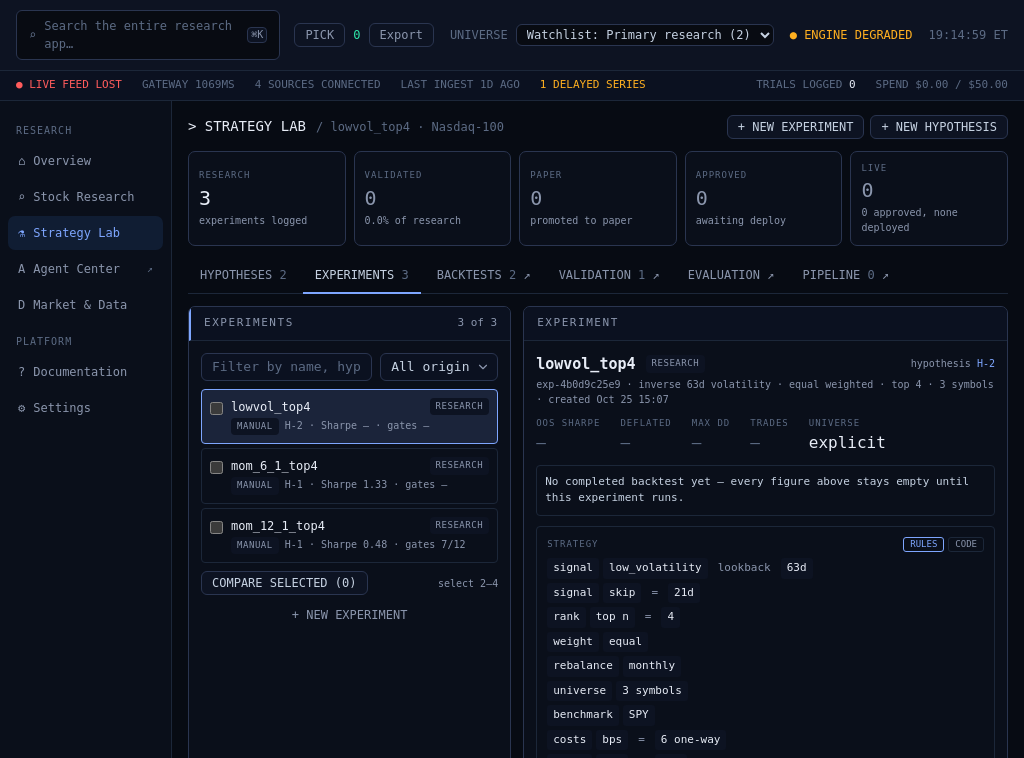
Test: experiments › filters by text and origin, and says when nothing matches
The image size is (1024, 758).
Type "mom_" into the field named "Filter experiments" at (287, 366), box [201,352,372,380]
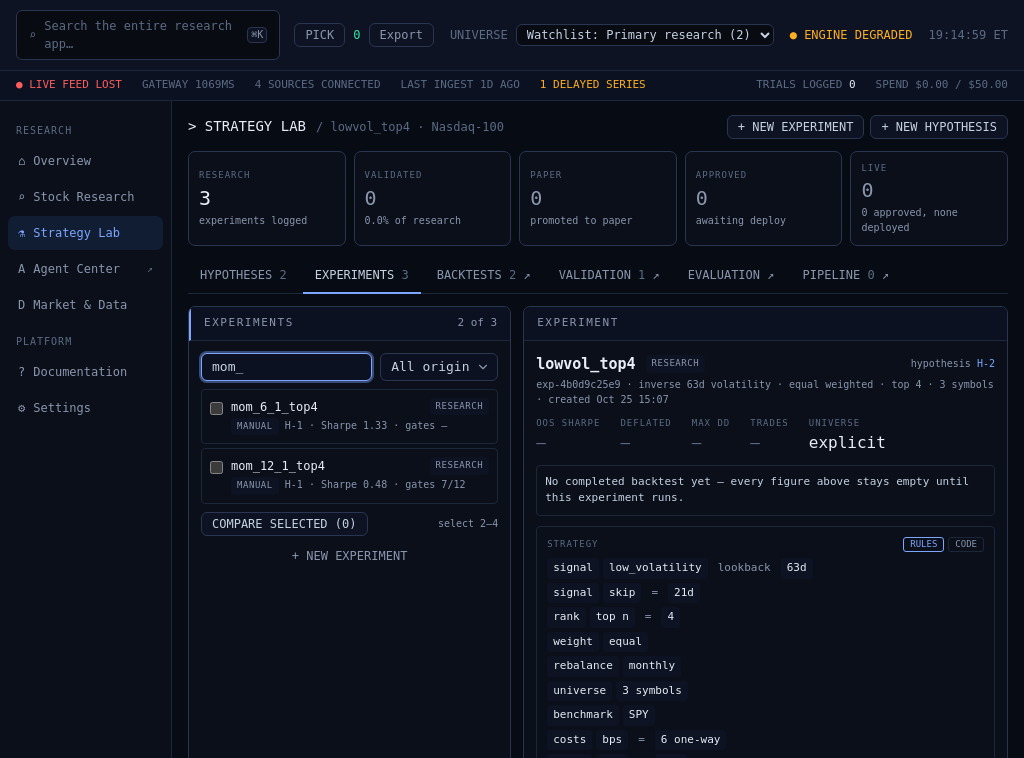
Expected: the number of list items is 2, [201,388,498,444]; [201,448,498,504]
Expected: the text "2 of 3" is shown, [457,315,497,332]
Select "Agent" in the dropdown named "Origin" at (439, 366), box [380,352,498,380]
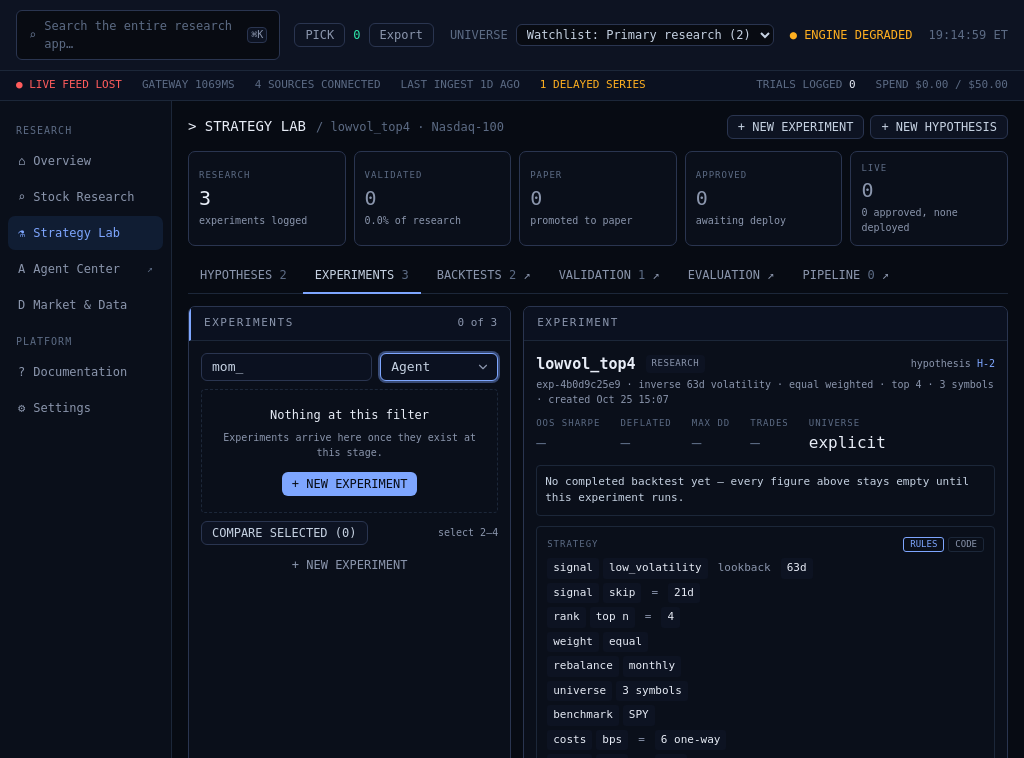
Expected: the text "Nothing at this filter" is shown, [270,408,429,422]
